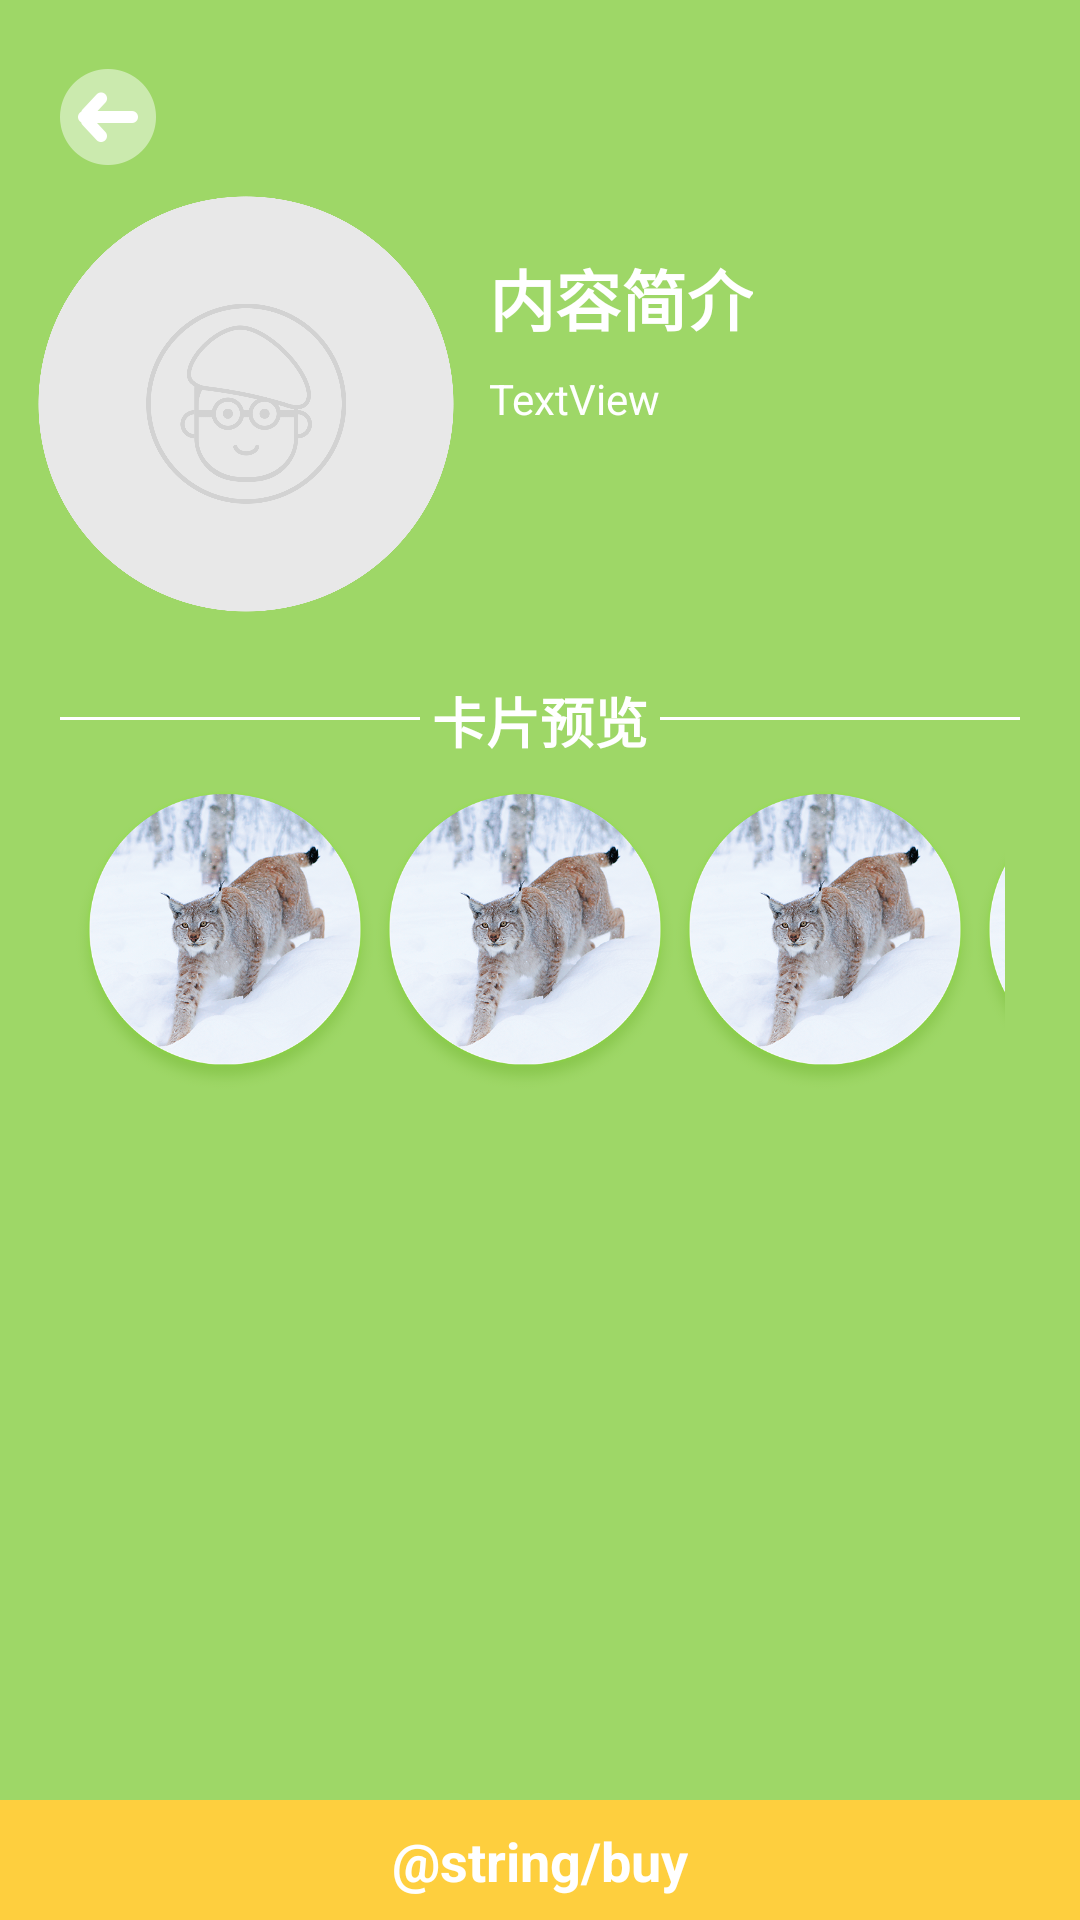

Screen size 1080px×1920px. Icon name, then its box in pixels as (x1, y1, x2, y2):
goback: (60, 69, 156, 165)
